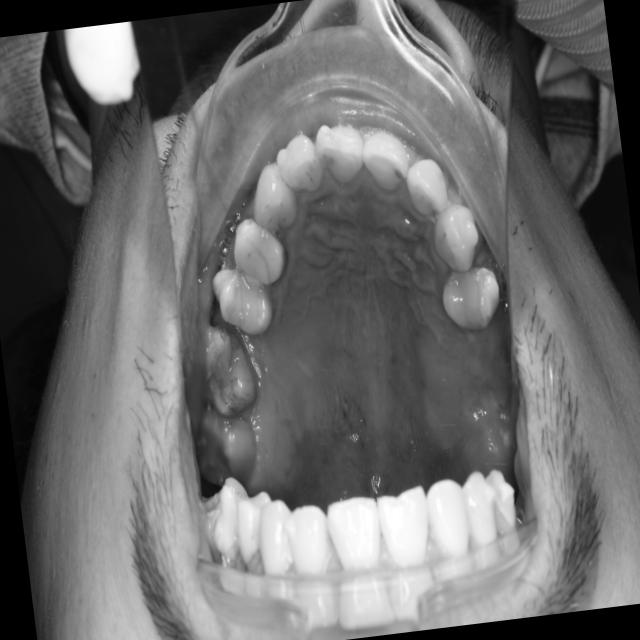tooth: (188, 314, 267, 424), (182, 401, 268, 499), (430, 248, 509, 339), (205, 256, 280, 344), (221, 203, 295, 292), (240, 145, 305, 242), (425, 196, 492, 283), (312, 107, 373, 194), (267, 125, 329, 203), (399, 145, 457, 227), (357, 125, 413, 201)
